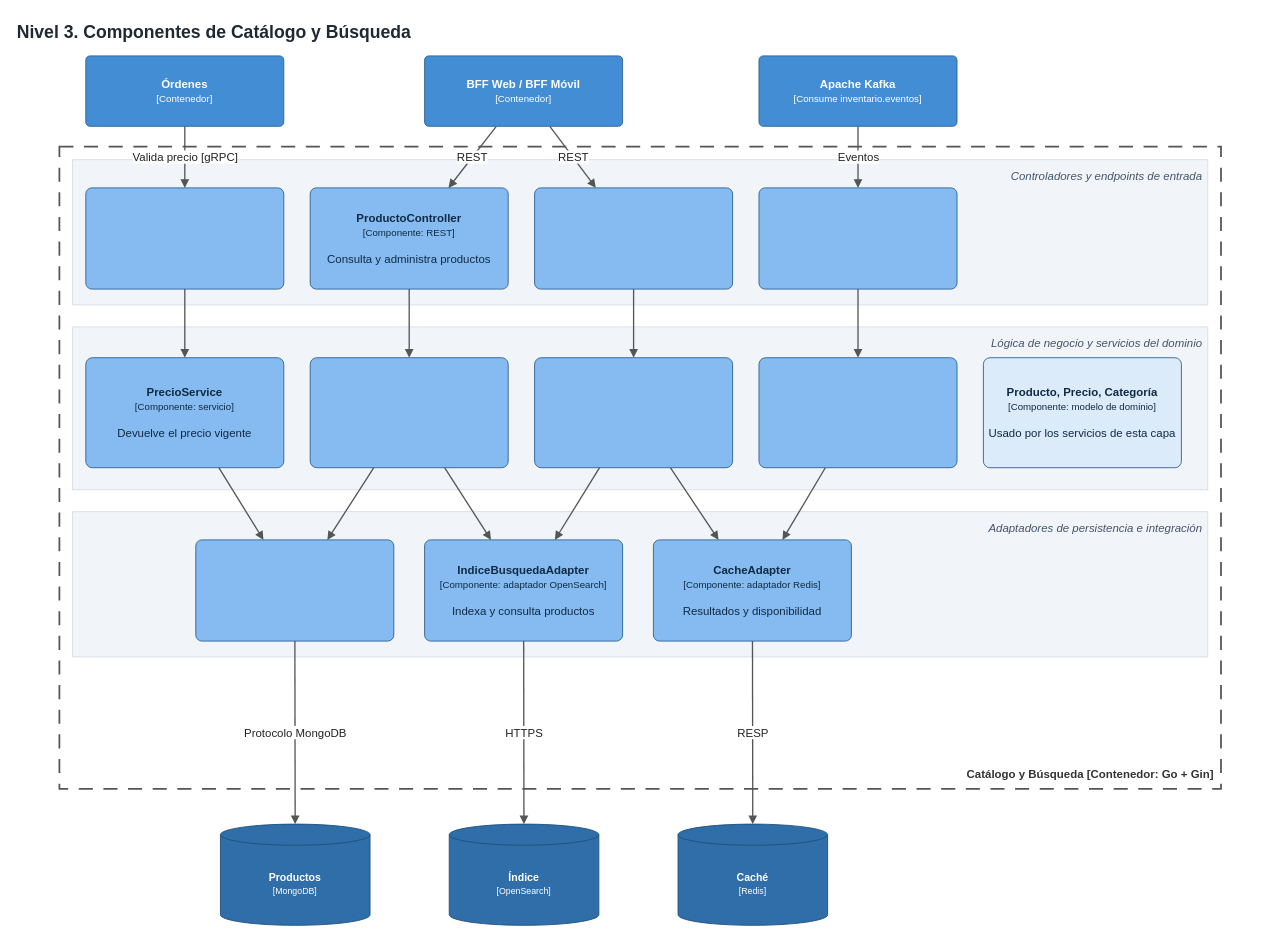
This 1280x941 diagram has some shape labels left out. The centre of each missing label's shape, as x and y in pixels:
BusquedaController [Componente: REST] Búsqueda con filtros y facetas: the point at 633,238
BusquedaService [Componente: servicio] Combina resultados y disponibilidad: the point at 633,412
DisponibilidadService [Componente: servicio] Mantiene la vista de disponibilidad: the point at 857,412
GestionCatalogoService [Componente: servicio] Reglas de publicación de productos: the point at 408,412
PrecioGrpcEndpoint [Componente: gRPC] Valida precio y vigencia por SKU: the point at 184,238
ProductoRepository [Componente: adaptador MongoDB] Lee y escribe productos: the point at 294,590
StockEventConsumer [Componente: consumidor Kafka] Recibe StockActualizado: the point at 857,238
